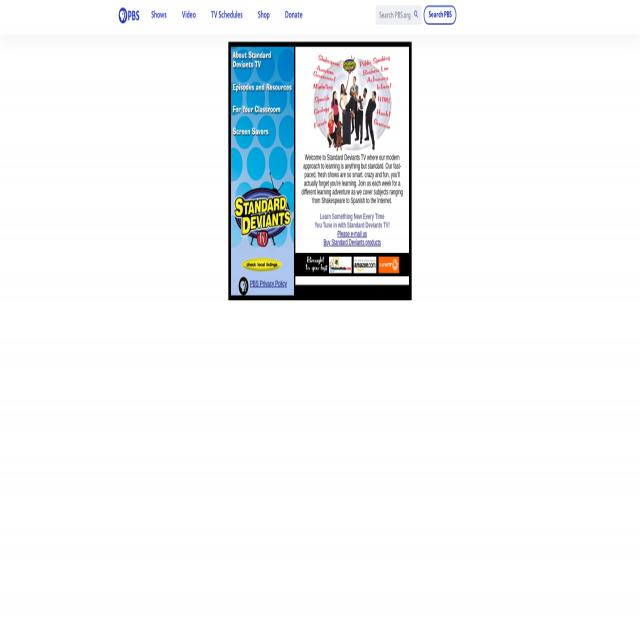button: (312, 53, 392, 153), (231, 166, 294, 254), (231, 47, 294, 76), (231, 99, 294, 122), (231, 144, 294, 167), (231, 76, 294, 99), (231, 122, 294, 144), (239, 254, 286, 276), (424, 5, 456, 25), (304, 253, 328, 276), (328, 253, 352, 276), (353, 253, 377, 276), (377, 253, 401, 276), (238, 277, 249, 296), (285, 10, 303, 20)
field: (376, 5, 422, 25)
